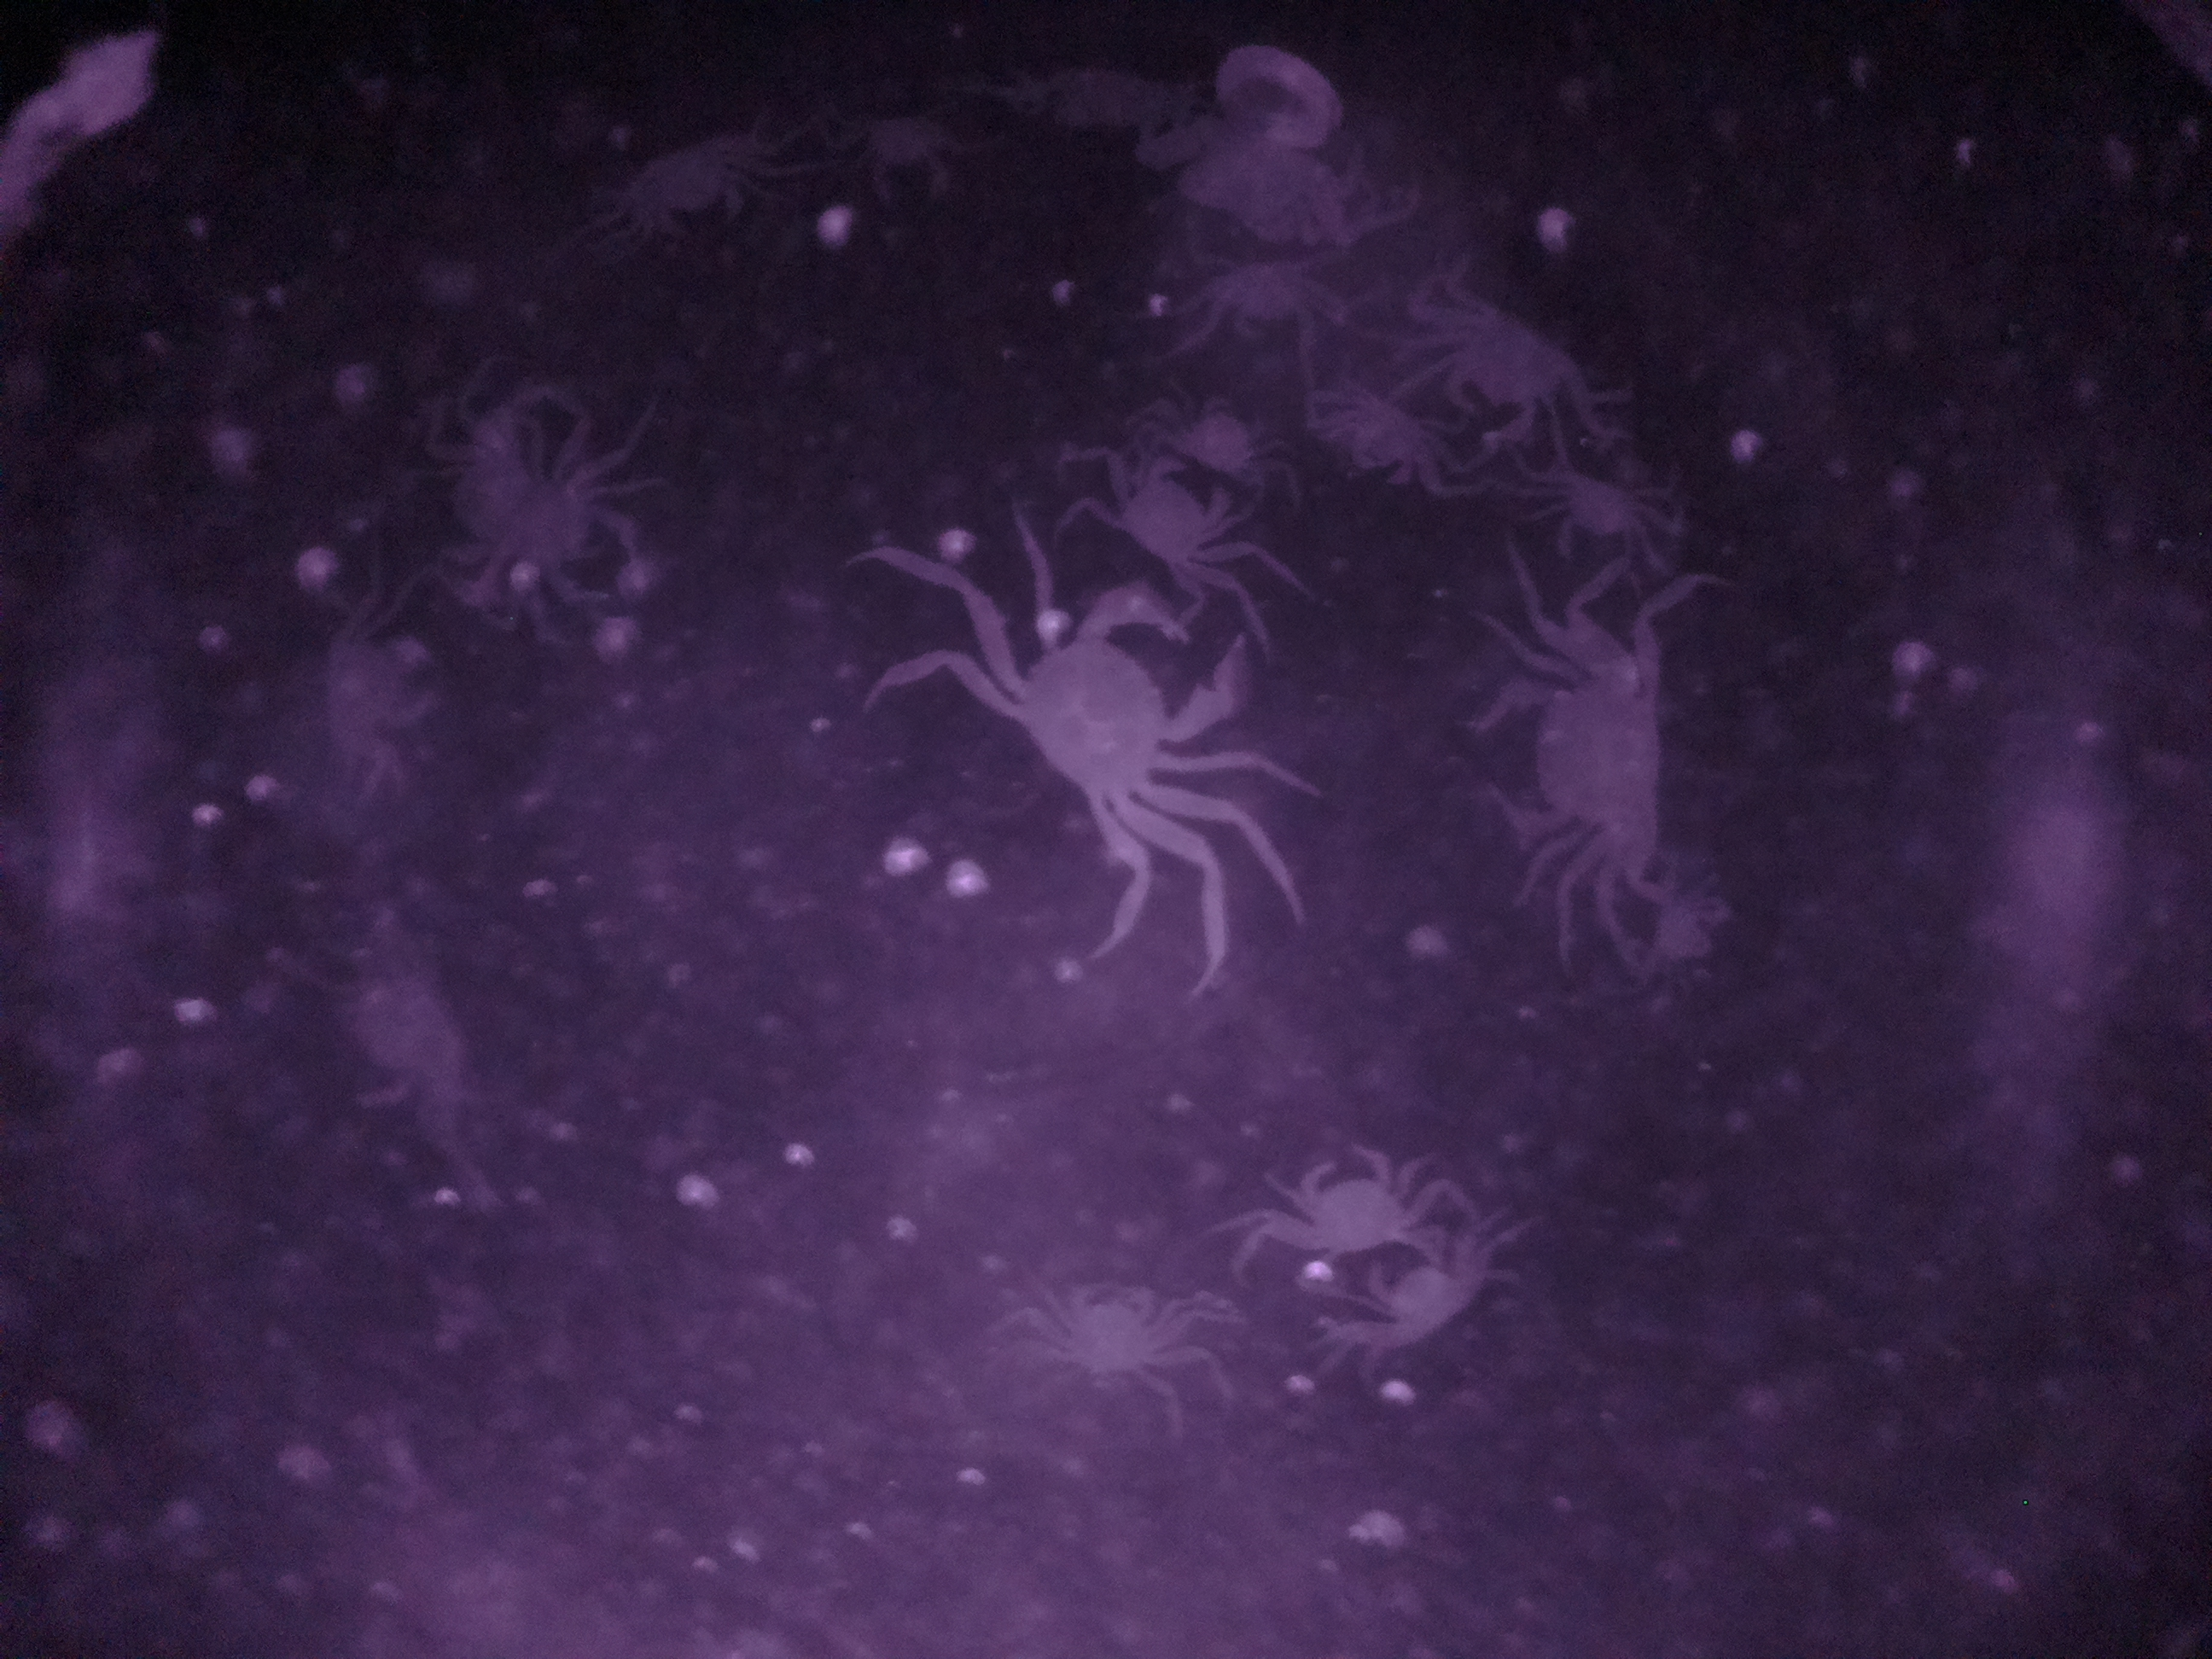Crab: (977, 586, 1252, 861), (1467, 620, 1681, 908), (1407, 296, 1606, 451), (1359, 1199, 1505, 1371), (1089, 448, 1263, 592), (1273, 1141, 1423, 1274)
